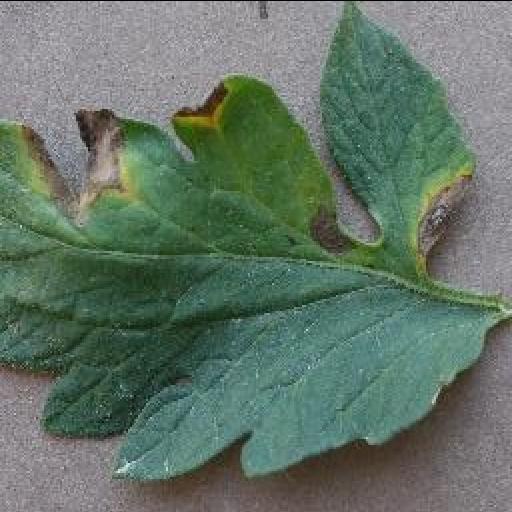disease_tomato: (2, 0, 512, 480)
